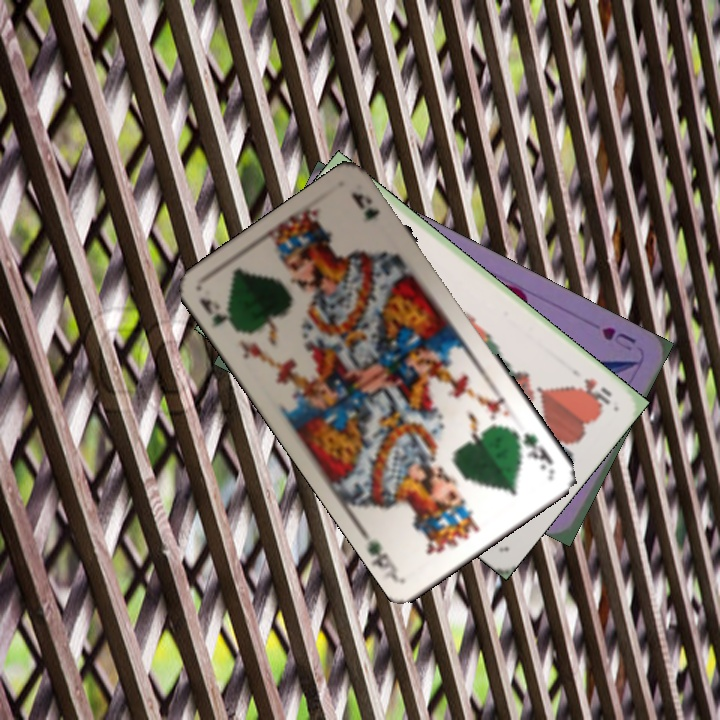GK: (509, 426, 556, 474), (195, 294, 244, 335)
HO: (576, 374, 614, 408)
HU: (598, 322, 639, 354)
